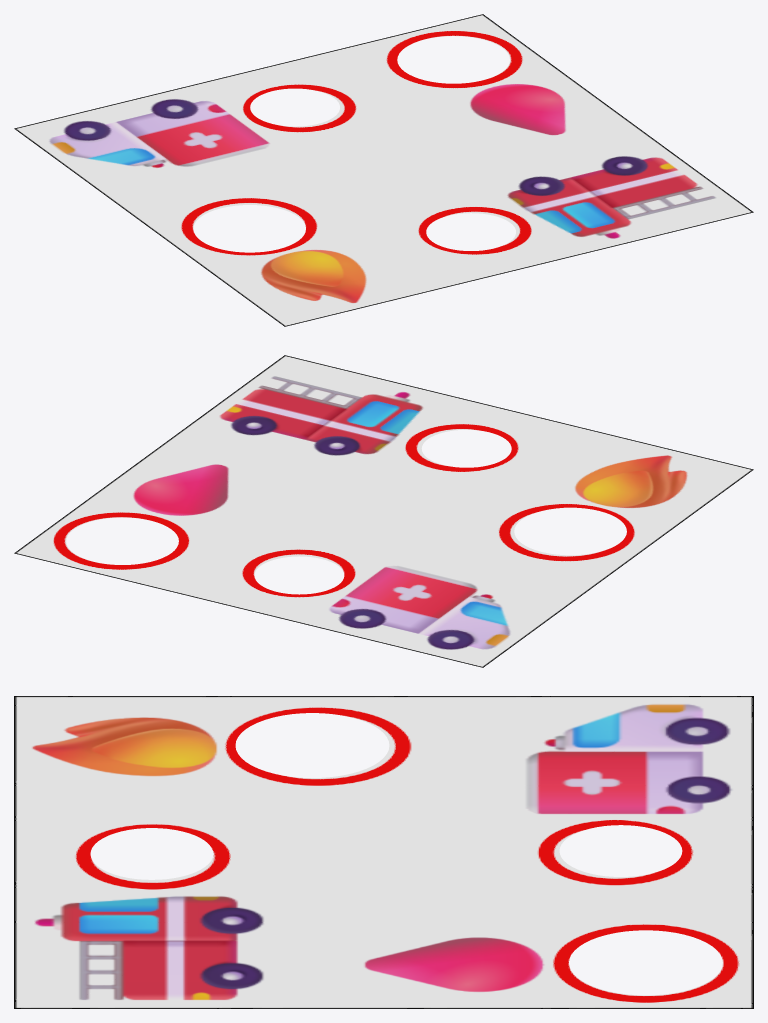
Rendered from Task04_Torpedoes_ver1_board_front.obj.
3 renders of one model, top to bottom at view 1: azimuth 30°, elevation 25°; view 2: azimuth 150°, elevation 25°; view 3: azimuth 270°, elevation 25°, orthographic. The views are drawn at different scales.
Parts seen in each view (by area): view 1: target_board; view 2: target_board; view 3: target_board.
Part boxes in pixels (box(x1,y1,x2,y2)): target_board: box(14, 14, 753, 326); target_board: box(14, 355, 753, 667); target_board: box(14, 696, 753, 1008).
Size of the model in its own units: 0.6264 by 0 by 0.6264.
1 material, 1 textured.
